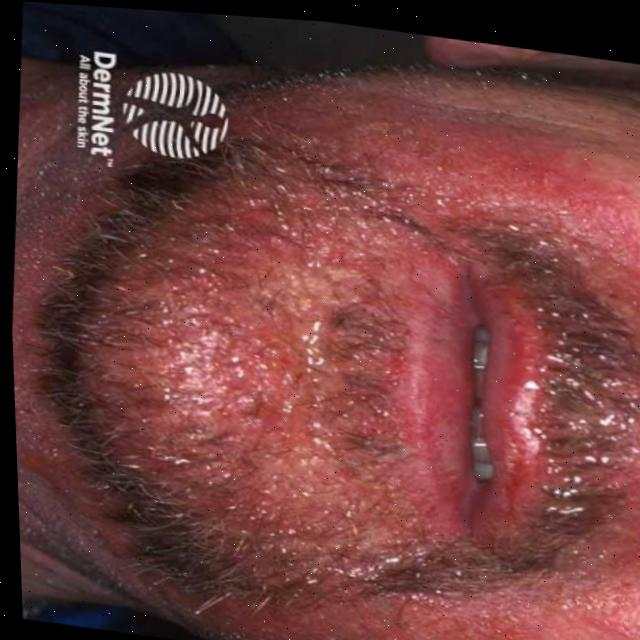Eczema: (125, 85, 640, 640)
